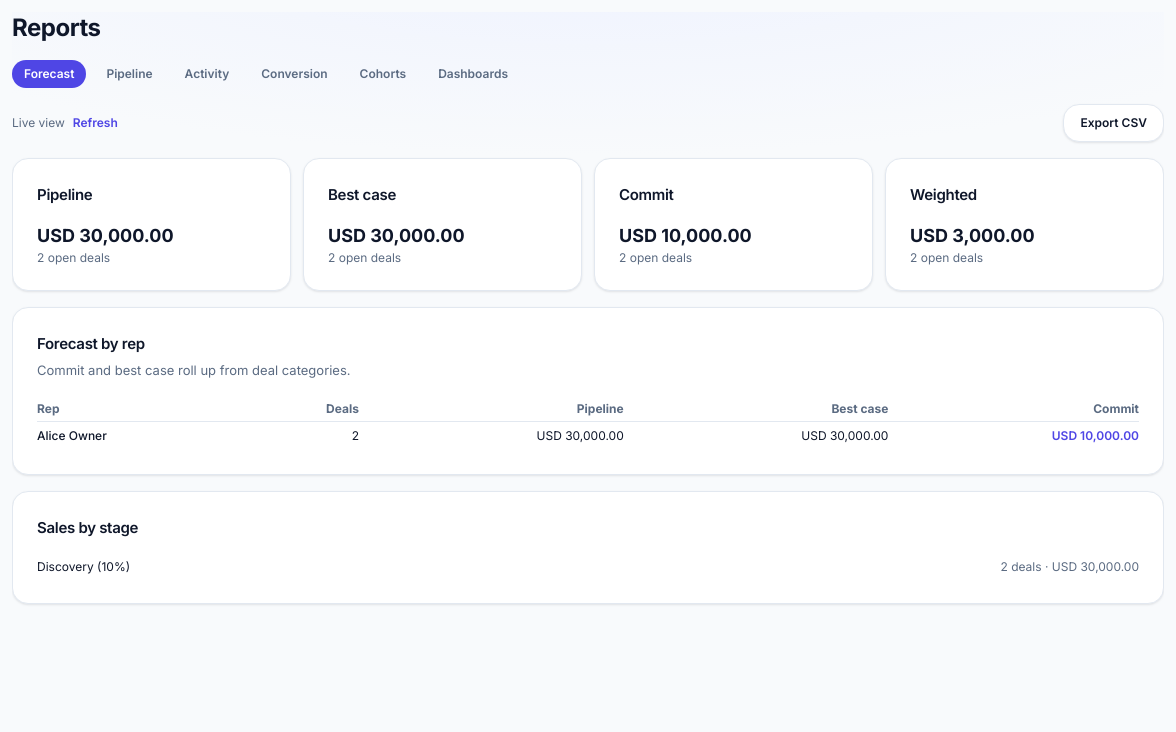
Test case: ReportsPage › switches to pipeline, activity, and conversion tabs
The image size is (1176, 732).
Expected: the heading "Reports" is shown, x1=12 y1=13 x2=101 y2=42
Click the button "Pipeline" at (130, 74), box x1=94 y1=60 x2=165 y2=88
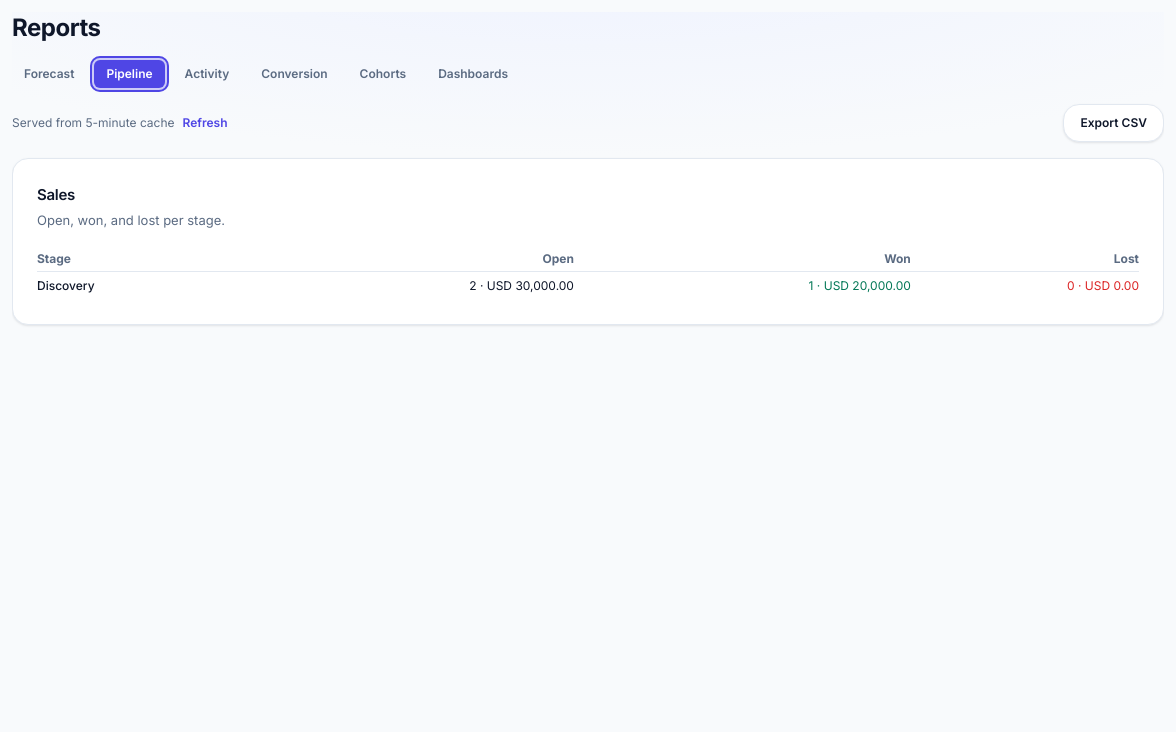
Expected: the text "Discovery" is shown, x1=37 y1=272 x2=237 y2=300
Now the text "Served from 5-minute cache" is shown, box x1=12 y1=115 x2=175 y2=131
Click the button "Activity" at (207, 74), box x1=173 y1=60 x2=241 y2=88
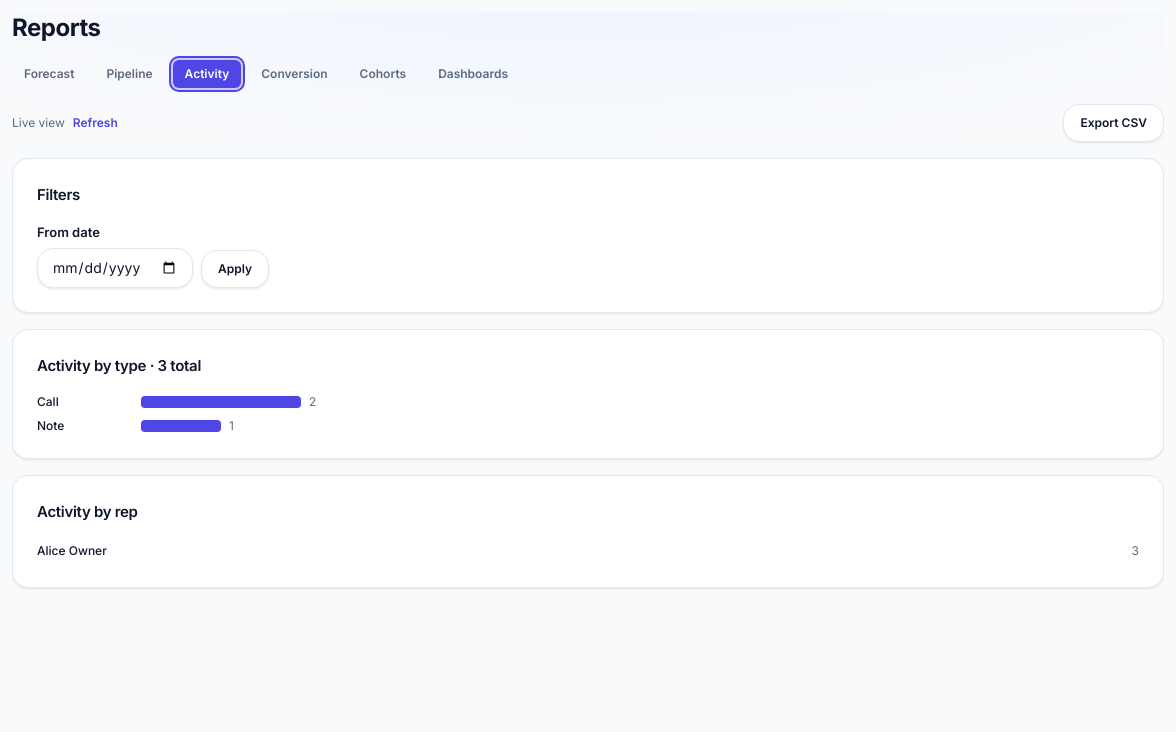
Now the heading "Activity by type · 3 total" is shown, box x1=37 y1=354 x2=201 y2=378
Click the button "Conversion" at (294, 74), box x1=249 y1=60 x2=340 y2=88
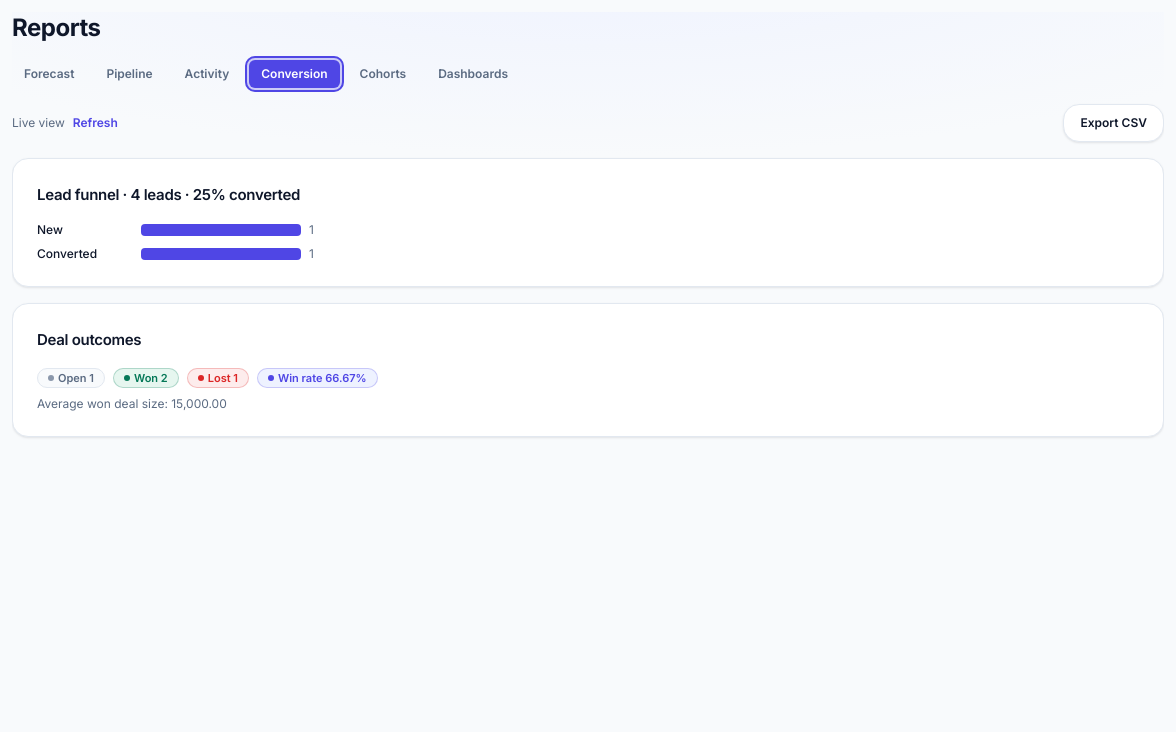
Now the text "Win rate 66.67%" is shown, box x1=257 y1=368 x2=378 y2=388
